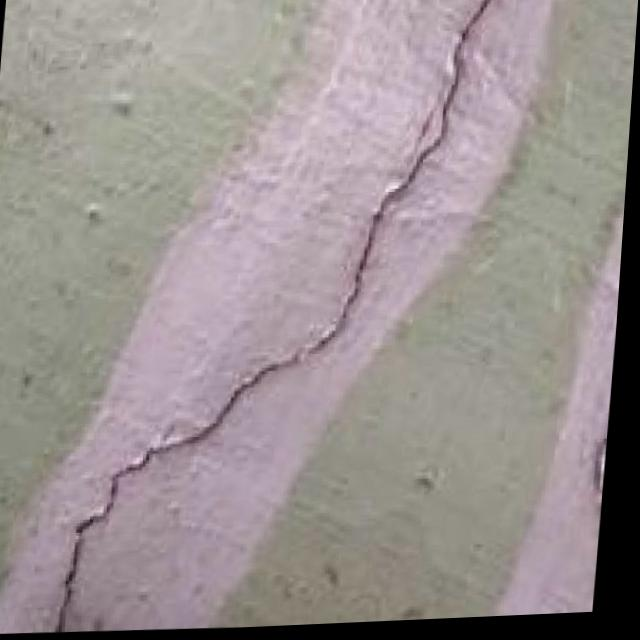Crack: (70, 0, 531, 636)
